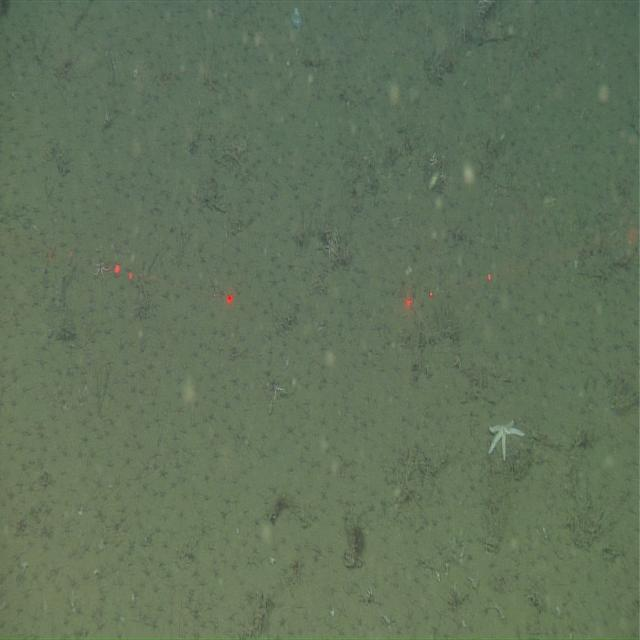Brittle Star: (89, 252, 113, 285)
